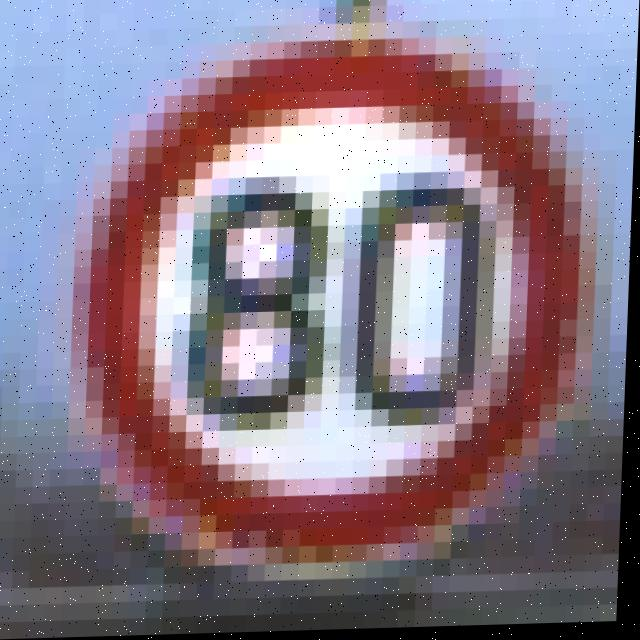speed_limit_80: (71, 46, 619, 547)
